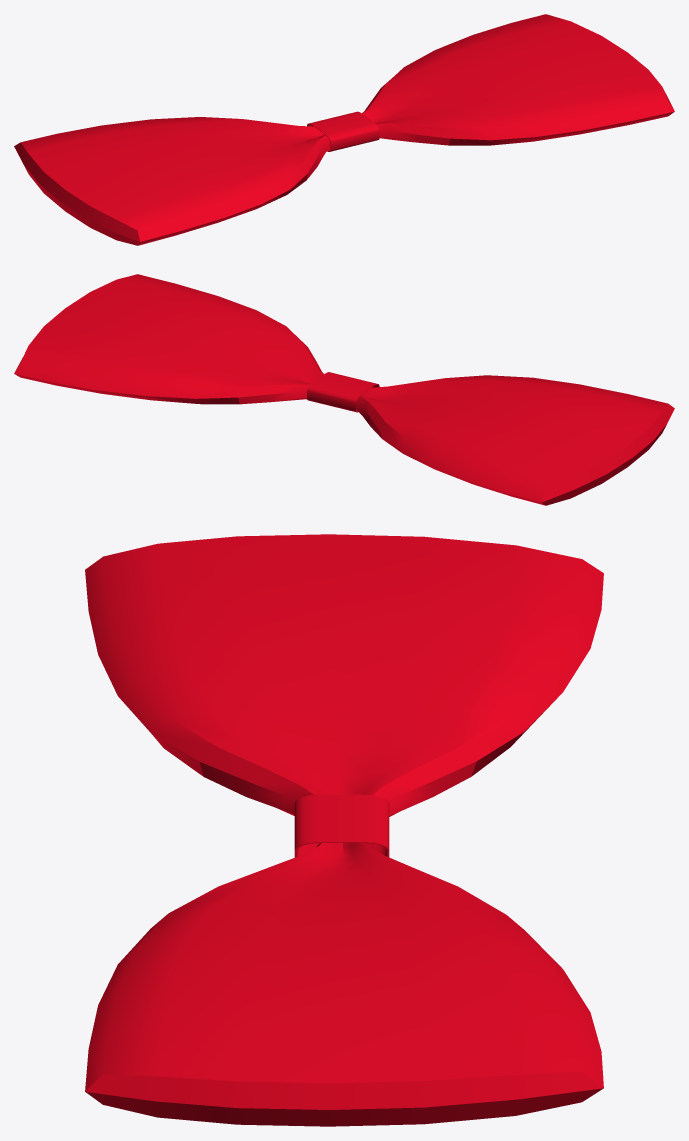
Rendered from shanghai_hair_bow.glb.
3 views of the same model, one above another, from view 1: azimuth 30°, elevation 25°; view 2: azimuth 150°, elevation 25°; view 3: azimuth 270°, elevation 25° (orthographic). The views are drawn at different scales.
Parts seen in each view (by area): view 1: shanghai_hair_bow; view 2: shanghai_hair_bow; view 3: shanghai_hair_bow.
Boxes of the visible parts, box(x1,y1,x2,y2) form: shanghai_hair_bow: box(14, 14, 674, 245); shanghai_hair_bow: box(14, 274, 674, 505); shanghai_hair_bow: box(85, 534, 603, 1126).
Size of the model in its own units: 1.79 by 0.0834 by 0.7046.
